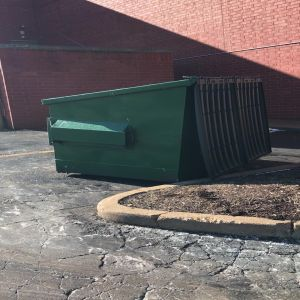Dumpster: (40, 73, 274, 171)
